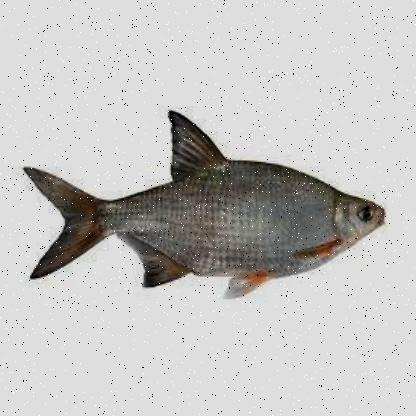ikan-mas: (28, 108, 388, 298)
